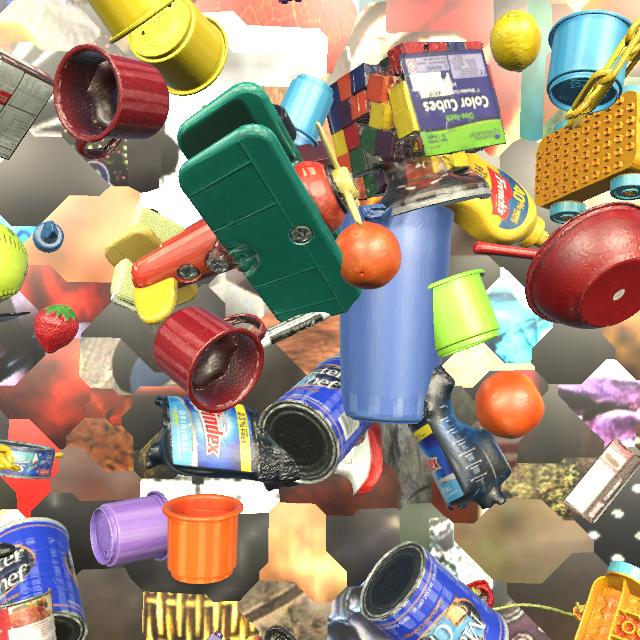ycb_002_master_chef_can: (359, 541, 509, 640), (258, 355, 373, 484), (0, 517, 88, 640)
ycb_005_tomato_soup_can: (0, 588, 57, 640)
ycb_006_mustard_bottle: (443, 153, 549, 248)
ycb_007_tuna_fish_can: (0, 439, 56, 480)
ycb_008_pudding_box: (561, 437, 640, 523), (0, 48, 54, 160)
ycb_012_strawberry: (34, 304, 79, 354)
ycb_014_lemon: (490, 10, 541, 72)
ycb_017_orange: (475, 371, 545, 439), (335, 221, 402, 290)
